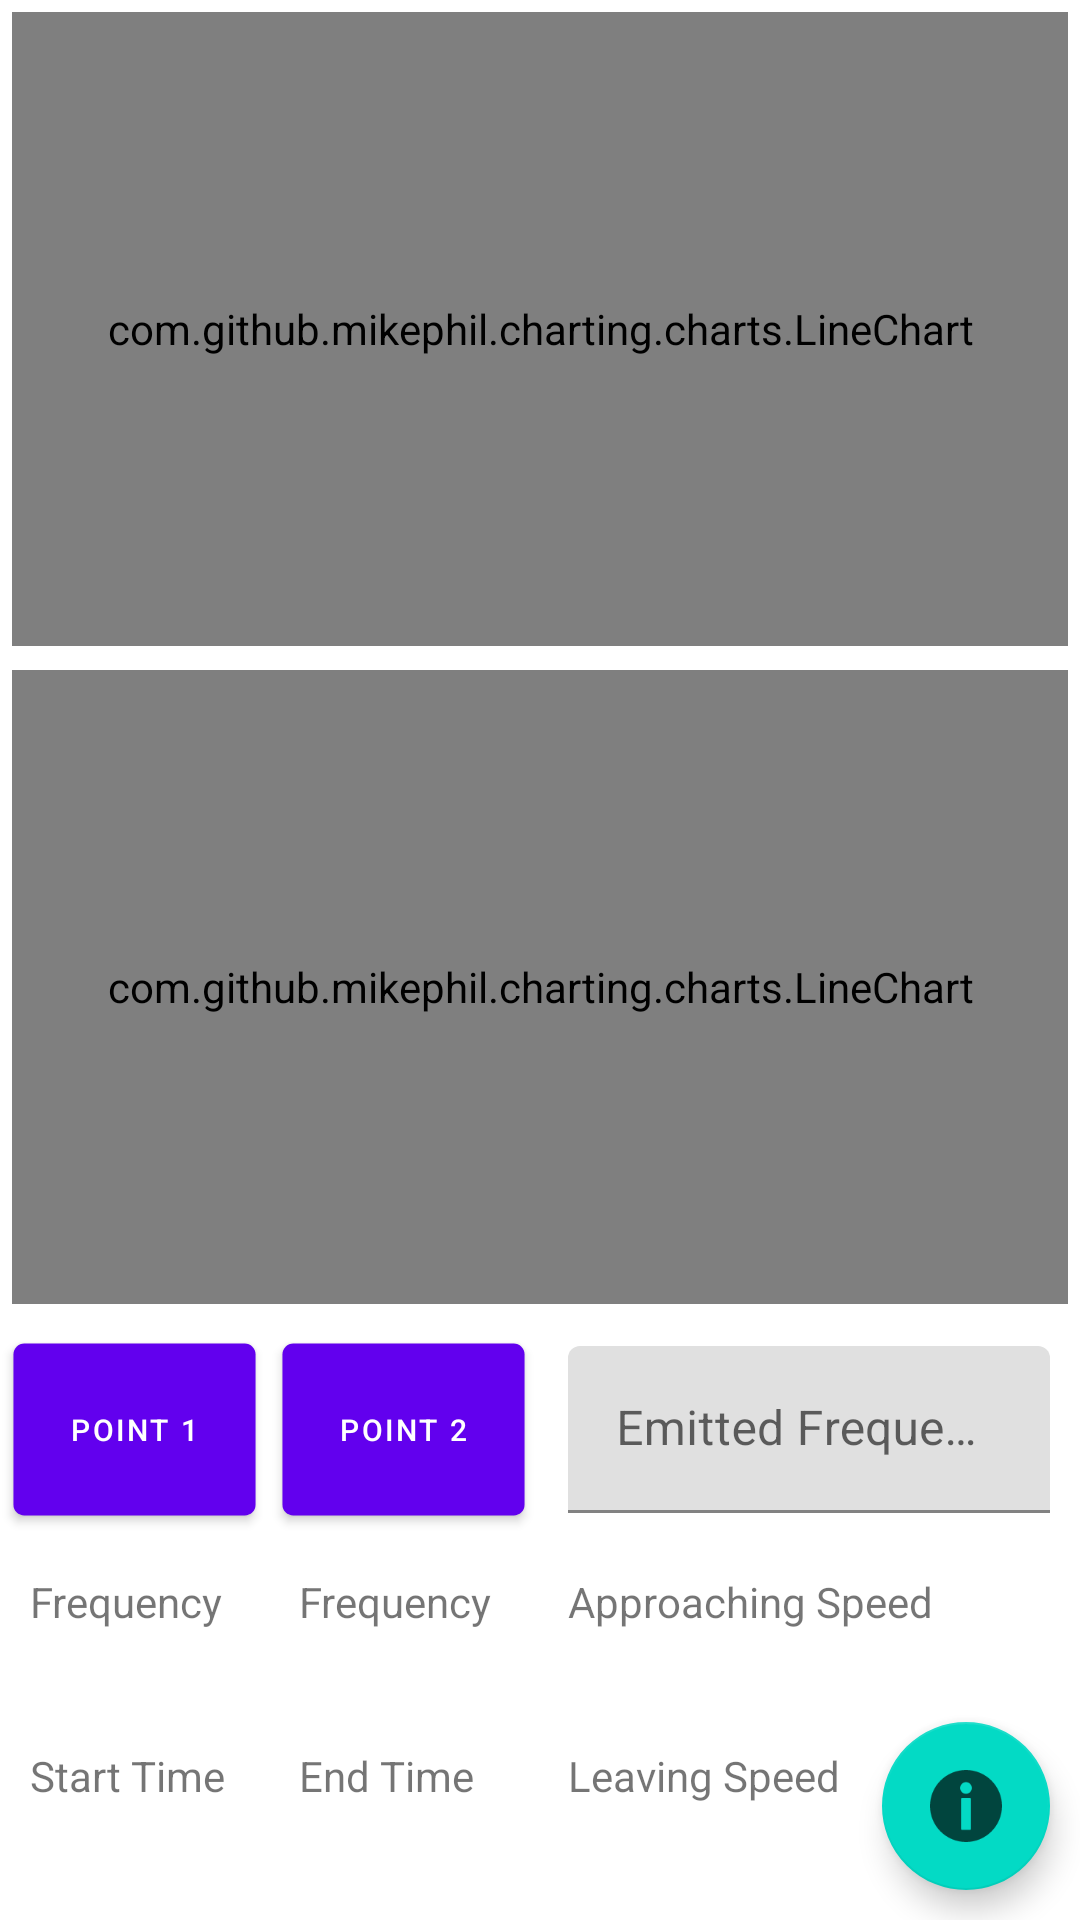

Point at icon controls on the screen. Image size 1080px×1920px, points as point (x, y).
fab info: point (966, 1806)
